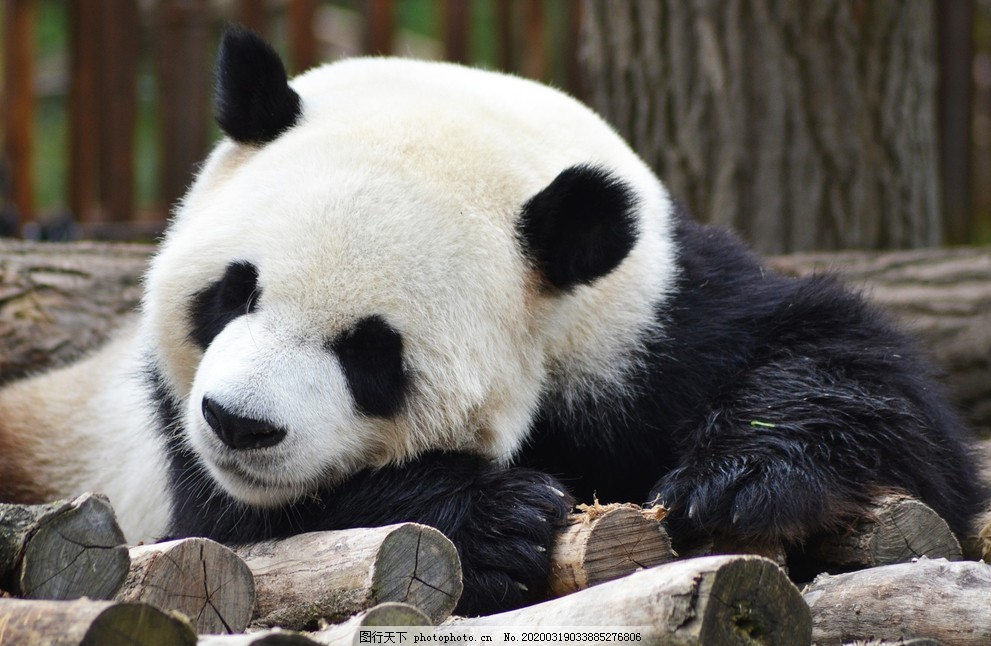panda: (41, 28, 964, 574)
